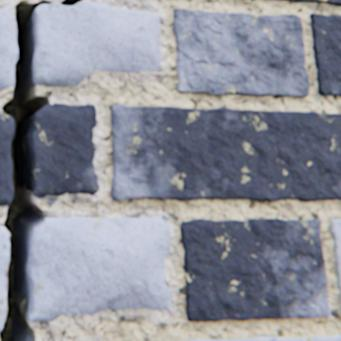brick: (110, 104, 340, 200), (180, 218, 329, 320), (172, 8, 308, 96), (309, 13, 340, 95), (169, 333, 340, 340), (329, 218, 340, 312), (285, 0, 340, 5)
broken_brick: (28, 216, 170, 320), (34, 2, 160, 84), (31, 102, 98, 196), (0, 5, 18, 89), (0, 110, 14, 204), (0, 225, 9, 329)
crack: (0, 0, 51, 340), (60, 0, 82, 6)
